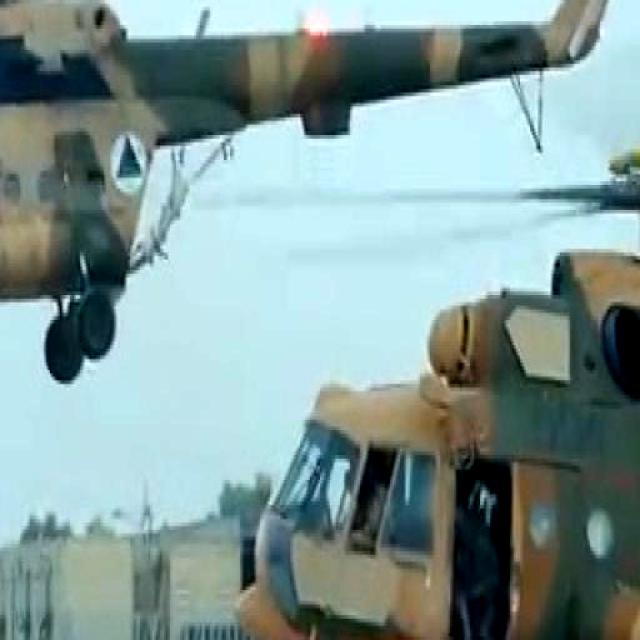drone: (0, 0, 640, 402), (236, 136, 640, 640)
